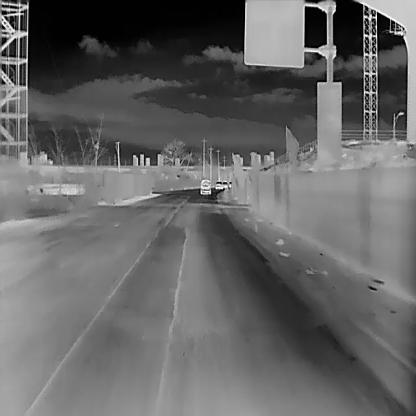car: (200, 179, 210, 194), (214, 180, 221, 188), (221, 180, 227, 187), (228, 180, 232, 188)
